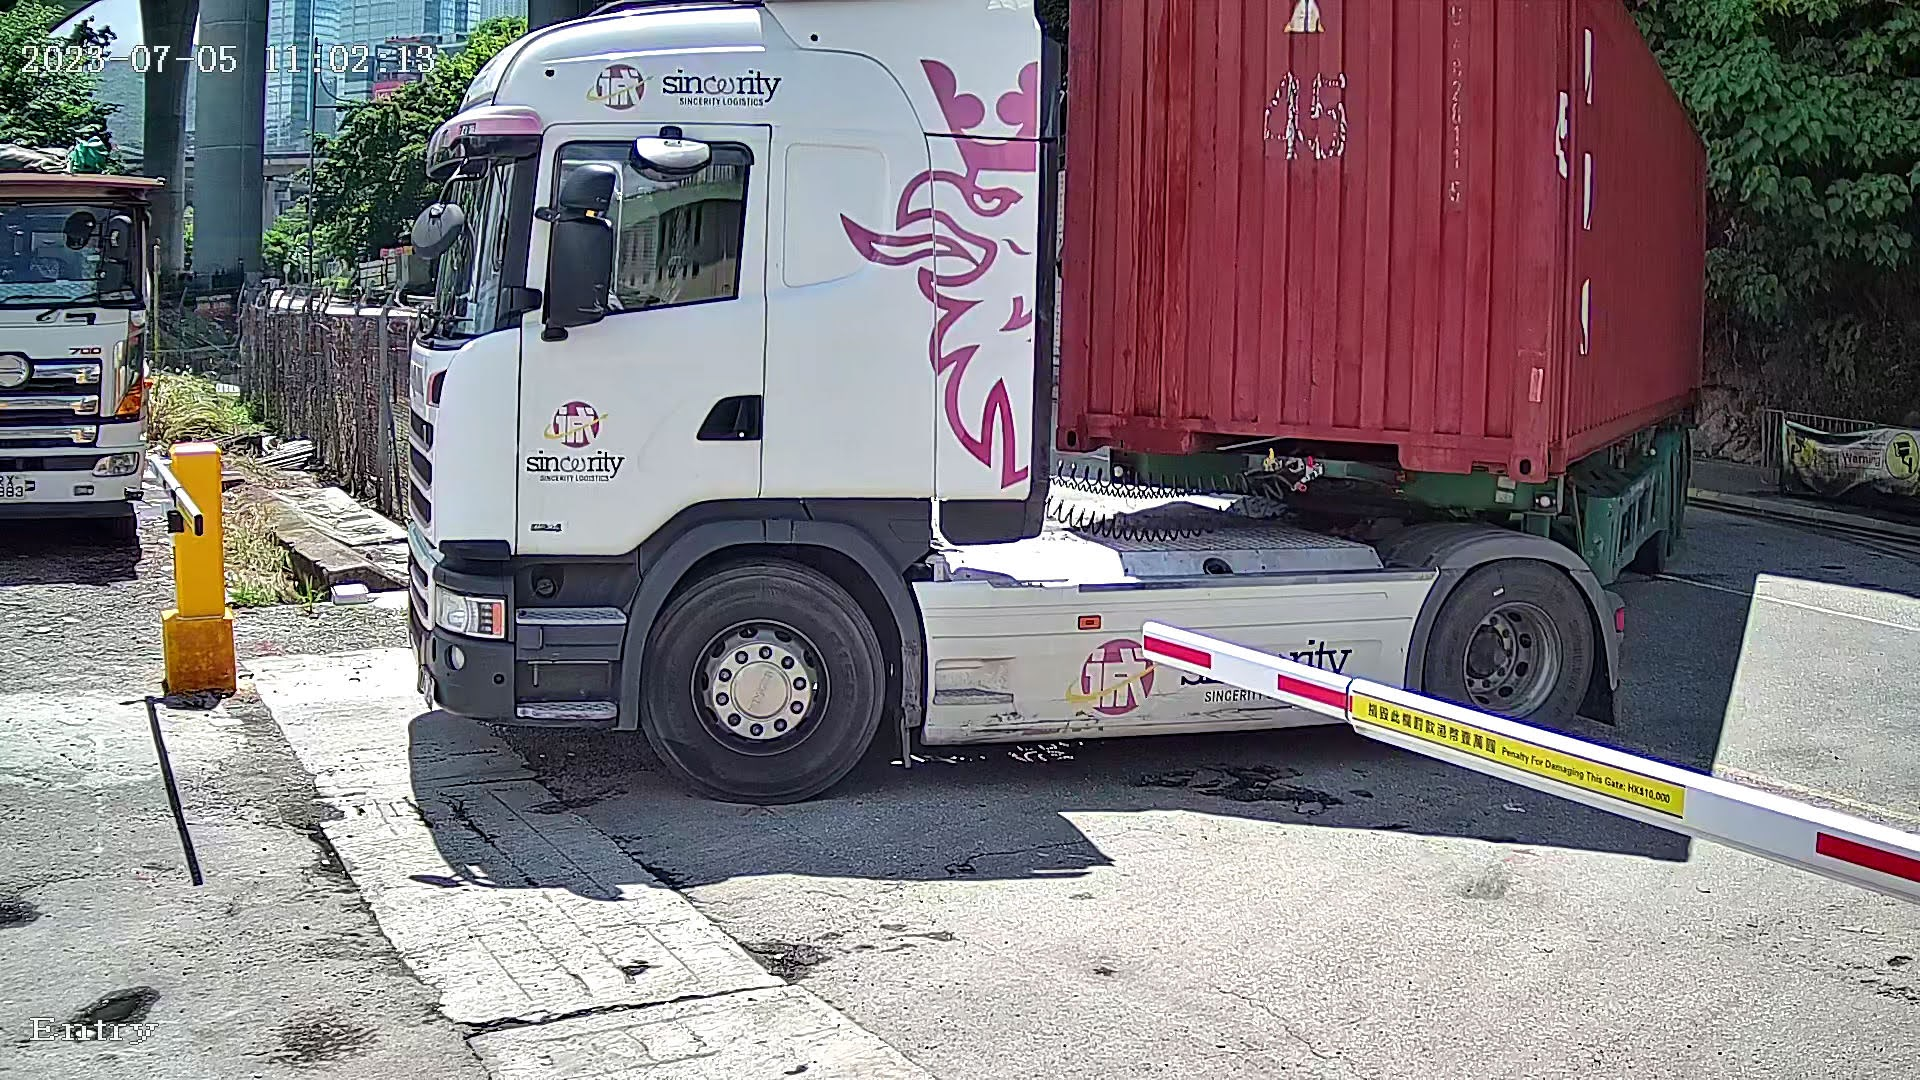truck: (360, 1, 1760, 864)
